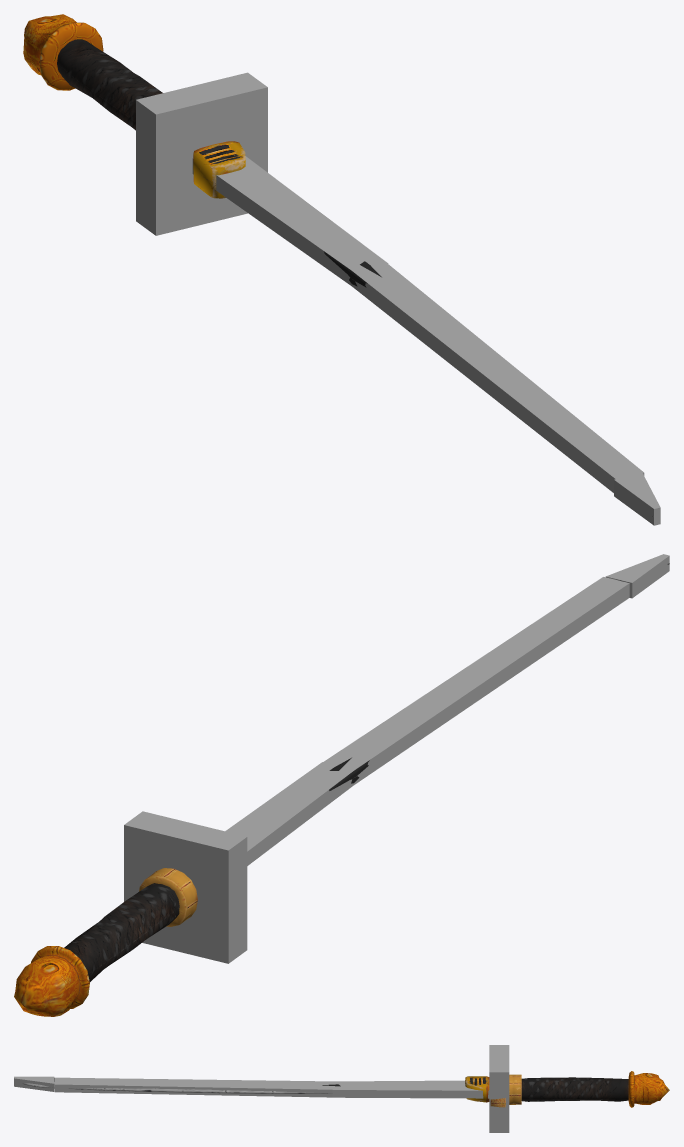
Rendered from swordWorldTwo.fbx.
3 renders of one model, top to bottom at view 1: azimuth 30°, elevation 25°; view 2: azimuth 150°, elevation 25°; view 3: azimuth 270°, elevation 25°, orthographic. The views are drawn at different scales.
Parts seen in each view (by area): view 1: colHilt, colBlade, colBlade2, metal, handle, colTip; view 2: colHilt, colBlade, metal, handle, colBlade2, colTip; view 3: colBlade, metal, handle, colBlade2, colHilt, colTip.
Part boxes in pixels (box(x1,y1,x2,y2)): colHilt: box(136, 72, 267, 235); colBlade: box(352, 262, 644, 492); colBlade2: box(192, 156, 388, 286); metal: box(23, 14, 653, 517); handle: box(57, 39, 162, 130); colTip: box(614, 473, 660, 525); colHilt: box(124, 811, 247, 963); colBlade: box(322, 577, 629, 784); metal: box(14, 563, 669, 1016); handle: box(64, 883, 179, 981); colBlade2: box(225, 762, 354, 865); colTip: box(605, 554, 669, 598); colBlade: box(54, 1077, 334, 1097); metal: box(23, 1071, 669, 1107); handle: box(521, 1077, 628, 1101); colBlade2: box(332, 1080, 489, 1098); colHilt: box(489, 1045, 509, 1132); colTip: box(14, 1076, 54, 1091).
Bounding box in the file's own units: 0.234 × 0.2394 × 2.34.
Materials: 3 (2 with a texture image).
